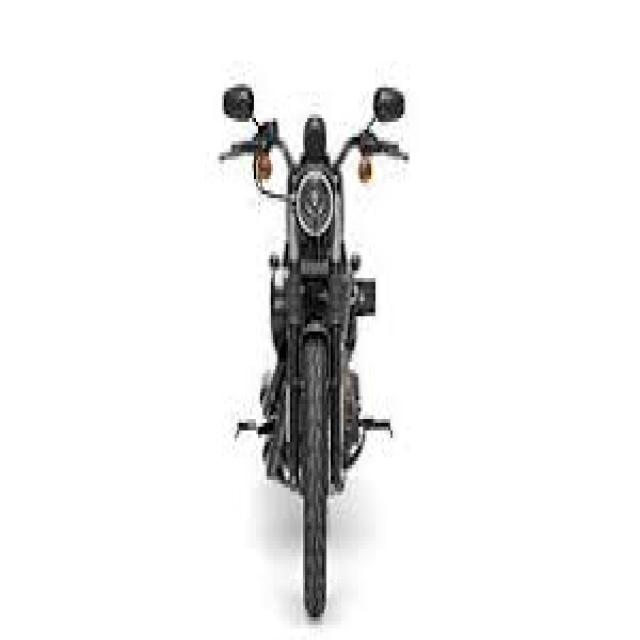Bike: (218, 88, 414, 632)
